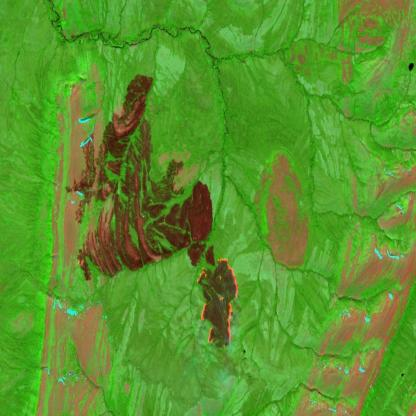fire: (195, 255, 239, 353)
